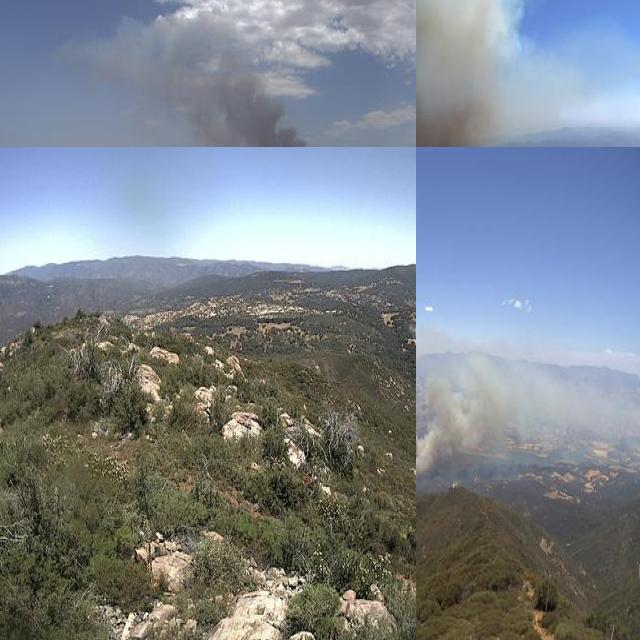smoke: (95, 7, 348, 147), (416, 339, 640, 477), (416, 0, 558, 147)
